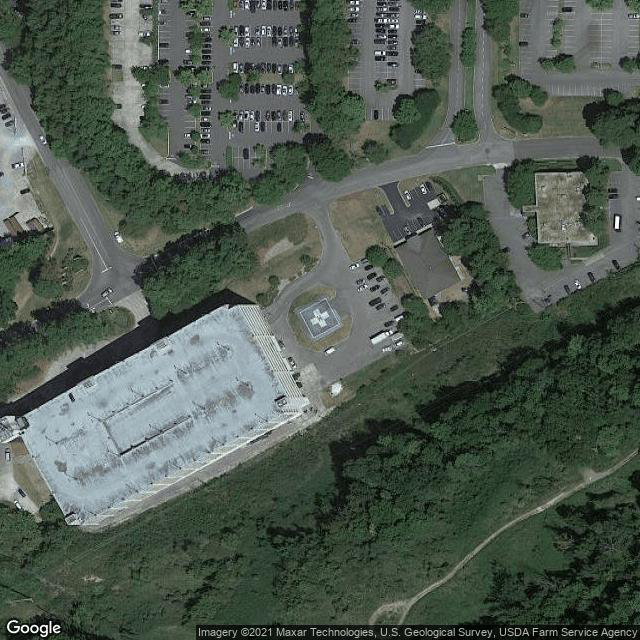Helipad: (300, 299, 337, 333)
